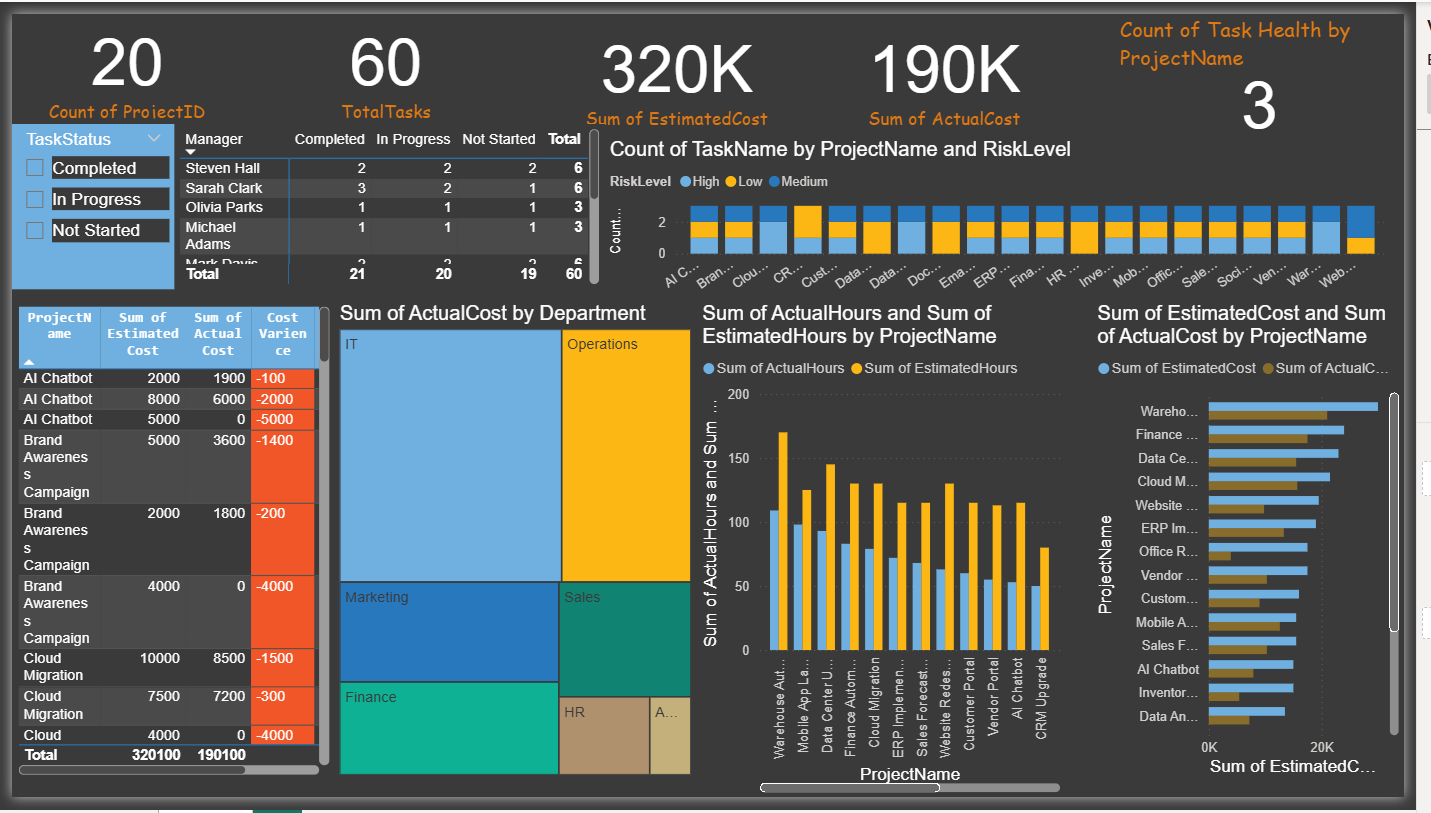

What the dashboard file says about the page in this screenshot:
{"tool":"powerbi","page":{"name":"Page 1","canvas":[1280,720],"ordinal":0},"visuals":[{"type":"card","fields":{"Values":["Project_mananagement.ProjectID"]},"box":[0,0,212.3,101.3],"z":0},{"type":"card","fields":{"Values":["Project_mananagement.TotalTasks"]},"box":[212.3,0,263,101.3],"z":1000},{"type":"card","fields":{"Values":["Project_mananagement.EstimatedCost"]},"box":[475.3,0,271.4,113.4],"z":2000},{"type":"card","fields":{"Values":["Project_mananagement.ActualCost"]},"box":[721.5,0,271.4,113.4],"z":3000},{"type":"slicer","fields":{"Values":["Project_mananagement.TaskStatus"]},"box":[0,101.3,149.6,152],"z":4000},{"type":"clusteredBarChart","fields":{"Category":["Project_mananagement.ProjectName"],"Y":["Project_mananagement.EstimatedCost","Project_mananagement.ActualCost"]},"box":[992.9,264.2,287.1,440.4],"z":5000},{"type":"clusteredColumnChart","fields":{"Y":["Project_mananagement.ActualHours","Project_mananagement.EstimatedHours"],"Category":["Project_mananagement.ProjectName"]},"box":[629.8,264.2,339,456],"z":6000},{"type":"columnChart","fields":{"Series":["Project_mananagement.RiskLevel"],"Y":["Project_mananagement.TaskName"],"Category":["Project_mananagement.ProjectName"]},"box":[545.3,113.4,726.3,150.8],"z":7000},{"type":"pivotTable","fields":{"Rows":["Project_mananagement.Manager"],"Columns":["Project_mananagement.TaskStatus"],"Values":["Project_mananagement.TaskName"]},"box":[149.6,101.3,395.7,152],"z":8000},{"type":"treemap","fields":{"Group":["Project_mananagement.Department"],"Values":["Project_mananagement.ActualCost"]},"box":[296.8,264.2,333,440.4],"z":9000},{"type":"tableEx","fields":{"Values":["Project_mananagement.ProjectName","Project_mananagement.EstimatedCost","Project_mananagement.ActualCost","Project_mananagement.Cost Varience","Project_mananagement.Task Health"]},"box":[0,264.2,296.8,440.4],"z":10000},{"type":"kpi","fields":{"Indicator":["Project_mananagement.Task Health"],"TrendLine":["Project_mananagement.ProjectName"]},"box":[1013.4,0,266.6,113.4],"z":11000}]}

Visuals, with their boxes in screenshot pixels (x1, y1, x2, y2), scaled from the page's 1280x720 canvas onto the 1431x813 screenshot:
card - Project_mananagement.ProjectID: locate(0, 0, 237, 114)
card - Project_mananagement.TotalTasks: locate(237, 0, 531, 114)
card - Project_mananagement.EstimatedCost: locate(531, 0, 835, 128)
card - Project_mananagement.ActualCost: locate(807, 0, 1110, 128)
slicer - Project_mananagement.TaskStatus: locate(0, 114, 167, 286)
clusteredBarChart - Project_mananagement.ProjectName x Project_mananagement.EstimatedCost: locate(1110, 298, 1430, 796)
clusteredColumnChart - Project_mananagement.ActualHours x Project_mananagement.EstimatedHours: locate(704, 298, 1083, 812)
columnChart - Project_mananagement.RiskLevel x Project_mananagement.TaskName: locate(610, 128, 1422, 298)
pivotTable - Project_mananagement.Manager x Project_mananagement.TaskStatus: locate(167, 114, 610, 286)
treemap - Project_mananagement.Department x Project_mananagement.ActualCost: locate(332, 298, 704, 796)
tableEx - Project_mananagement.ProjectName x Project_mananagement.EstimatedCost: locate(0, 298, 332, 796)
kpi - Project_mananagement.Task Health x Project_mananagement.ProjectName: locate(1133, 0, 1430, 128)
